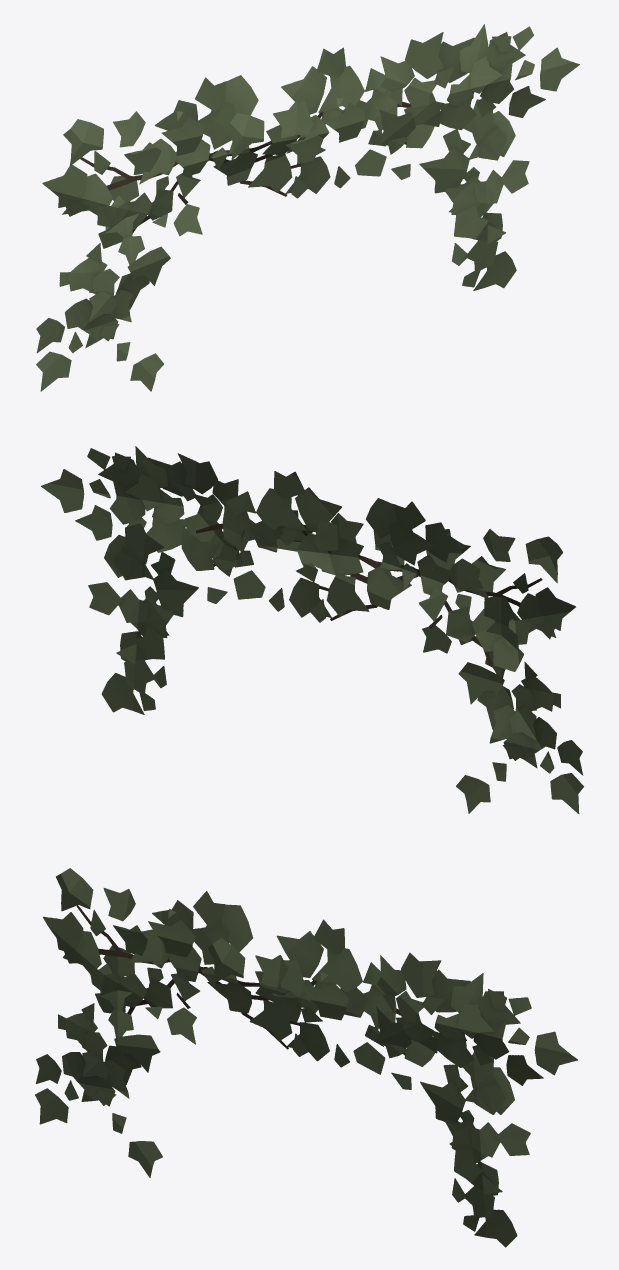
File: SM_Gen_Env_Ivy_09.obj
3 renders of one model, top to bottom at view 1: azimuth 30°, elevation 25°; view 2: azimuth 150°, elevation 25°; view 3: azimuth 330°, elevation 25°, orthographic.
Parts seen in each view (by area): view 1: SM_Gen_Env_Ivy_09_0; view 2: SM_Gen_Env_Ivy_09_0; view 3: SM_Gen_Env_Ivy_09_0.
Part boxes in pixels (bbox=[...]): SM_Gen_Env_Ivy_09_0: bbox=[36, 24, 579, 391]; SM_Gen_Env_Ivy_09_0: bbox=[41, 446, 583, 813]; SM_Gen_Env_Ivy_09_0: bbox=[35, 868, 577, 1247].
Size of the model in its own units: 3.05 by 1.67 by 0.1177.
1 material, 1 textured.
